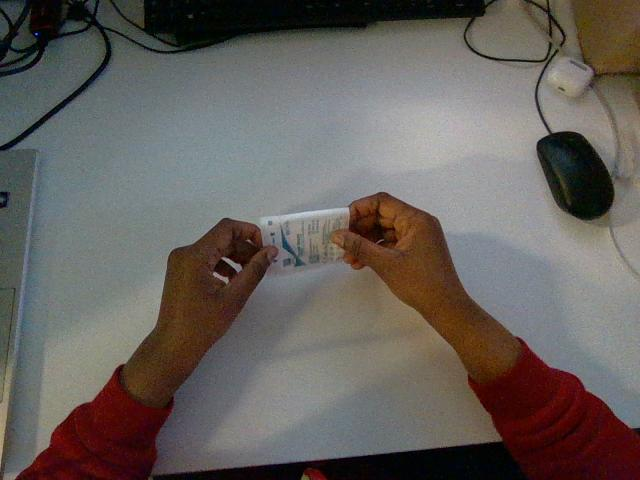gauze: (258, 208, 348, 272)
